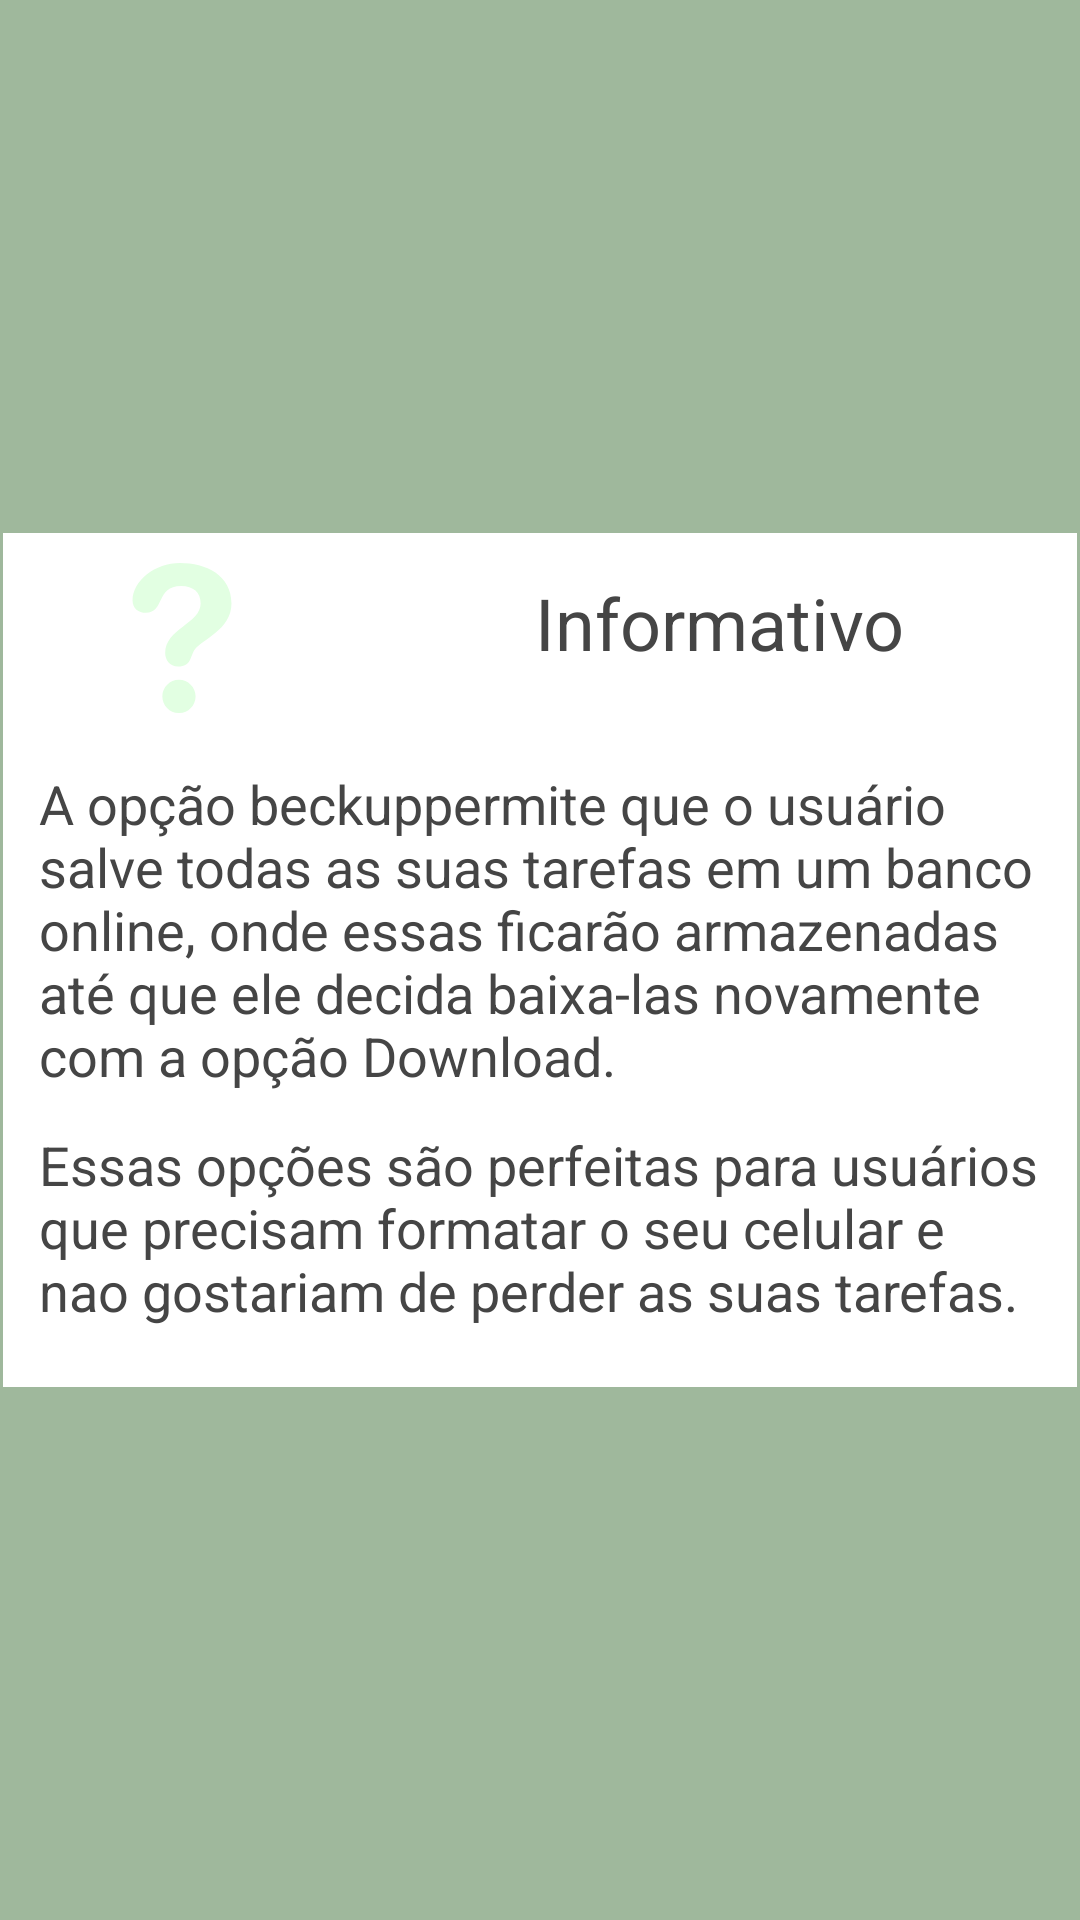

Icon bounding boxes for this 1080×1920 phone screenshot, format (x1, y1, x2, y2):
interogacao: (133, 563, 231, 713)
